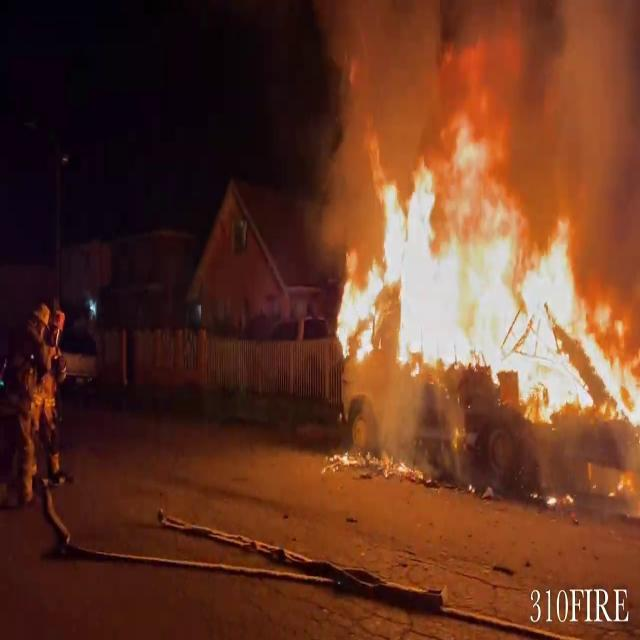Fire: (323, 74, 640, 434)
